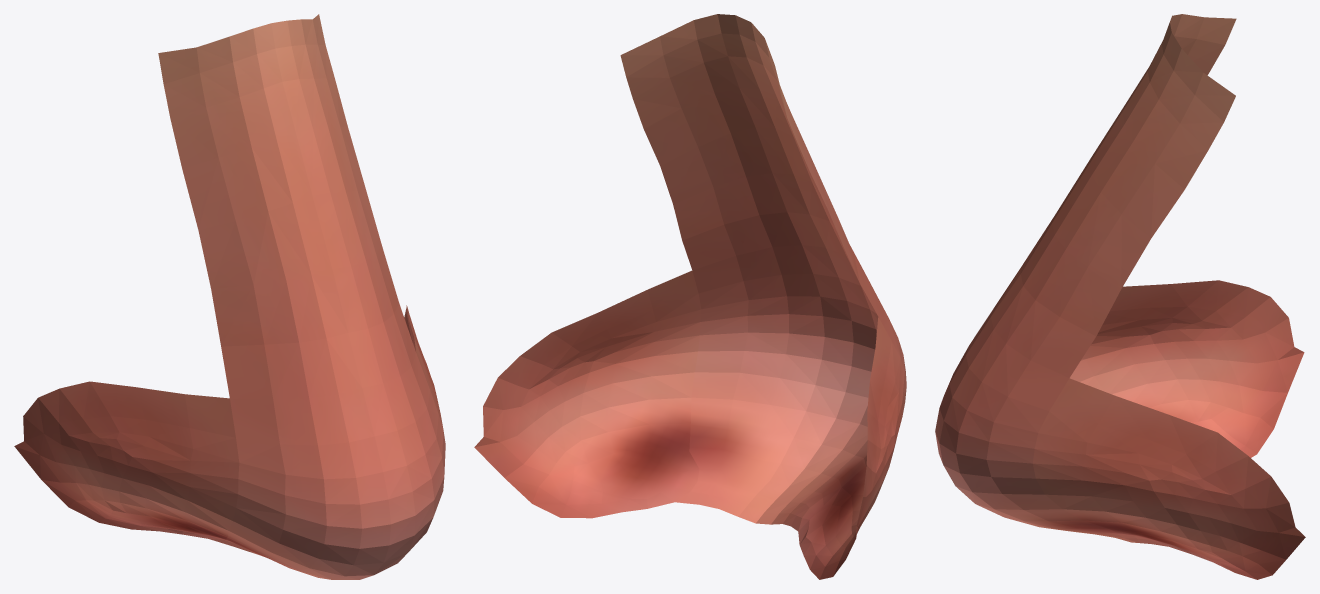
File: euro-nose-region-convex.obj
3 renders of one model, left to right at view 1: azimuth 30°, elevation 25°; view 2: azimuth 150°, elevation 25°; view 3: azimuth 270°, elevation 25°, orthographic.
Visible parts, largest first — view 1: euro-nose-region-conv.001; view 2: euro-nose-region-conv.001; view 3: euro-nose-region-conv.001.
Part boxes in pixels (x1,y1,x2,y2): euro-nose-region-conv.001: (14, 14, 445, 579); euro-nose-region-conv.001: (474, 14, 906, 579); euro-nose-region-conv.001: (935, 14, 1305, 579).
Size of the model in its own units: 0.2811 by 0.3687 by 0.24.
Materials: 1 (1 with a texture image).
